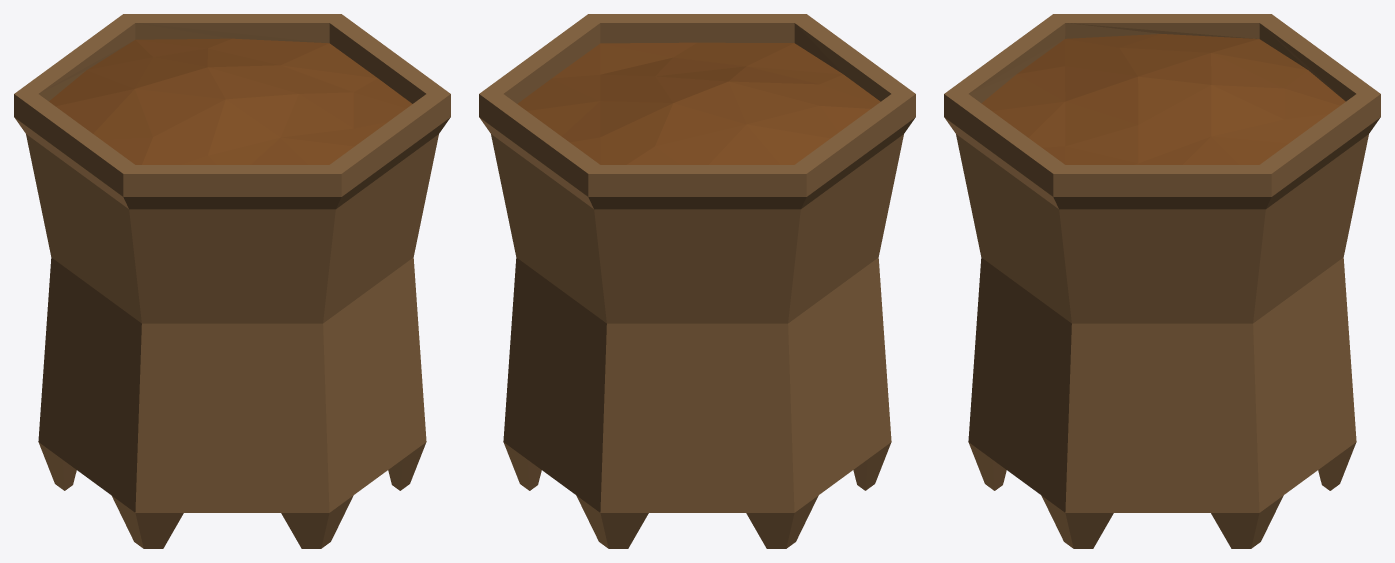
File: macetaxina.fbx
3 renders of one model, left to right at view 1: azimuth 30°, elevation 25°; view 2: azimuth 150°, elevation 25°; view 3: azimuth 270°, elevation 25°, orthographic.
Visible parts, largest first — view 1: Cylinder; view 2: Cylinder; view 3: Cylinder.
Part boxes in pixels (x1=…): Cylinder: x1=14, y1=14, x2=450, y2=548; Cylinder: x1=479, y1=14, x2=915, y2=548; Cylinder: x1=944, y1=14, x2=1380, y2=548.
Size of the model in its own units: 195 by 227 by 225.
